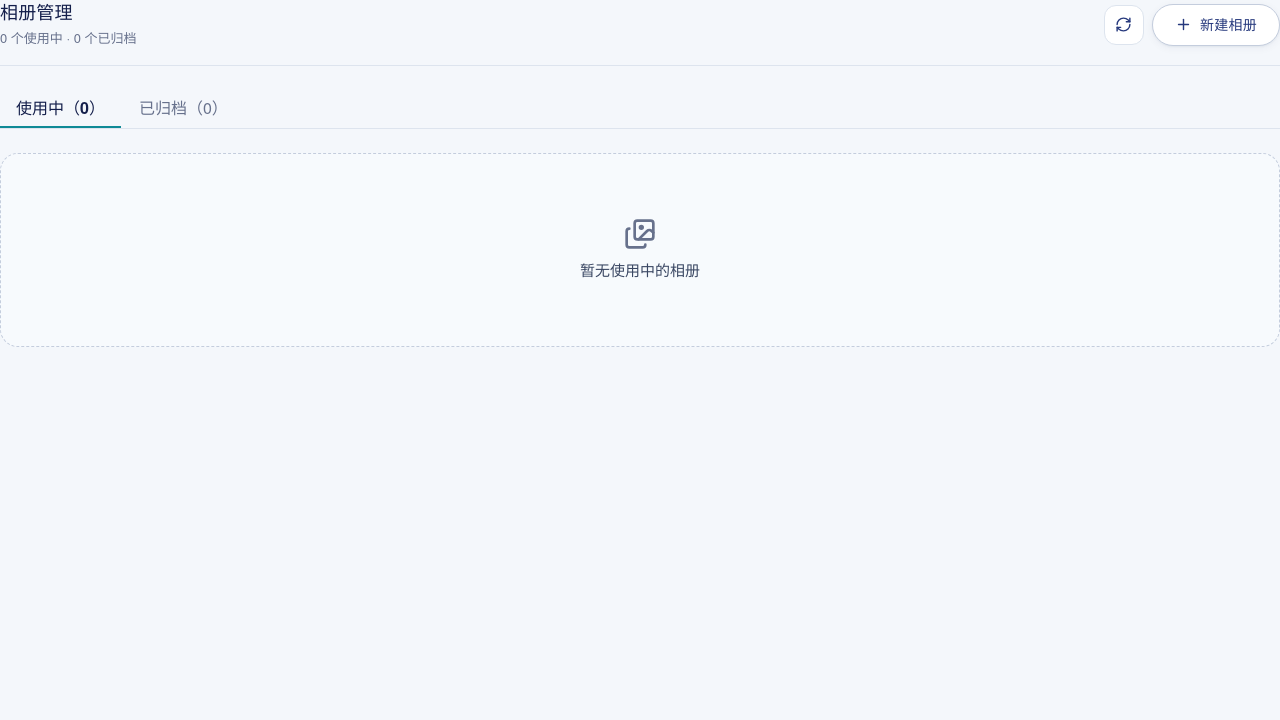
Scenario: AdminAlbums › creates an album and selects it for management
Click the button "新建相册" at (1216, 24), box [1152,4,1279,46]
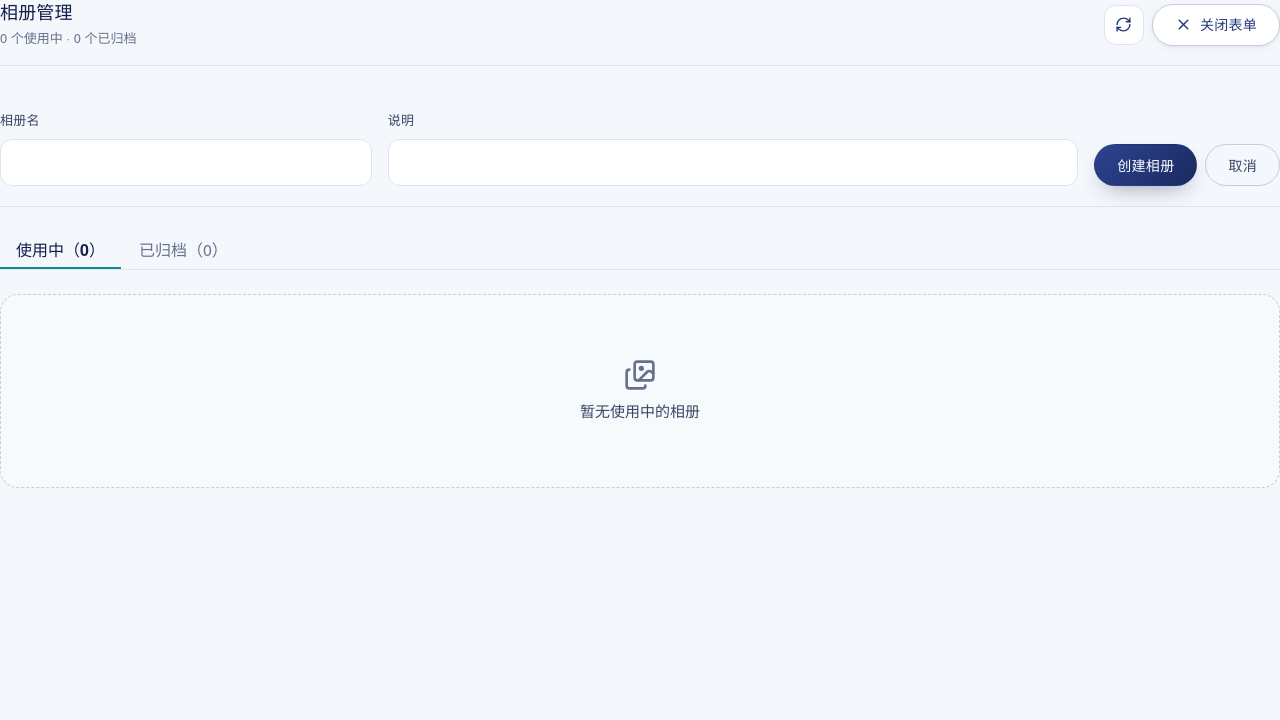
Type "新相册" into the field with id "album-title" at (186, 163), box [0,139,372,186]
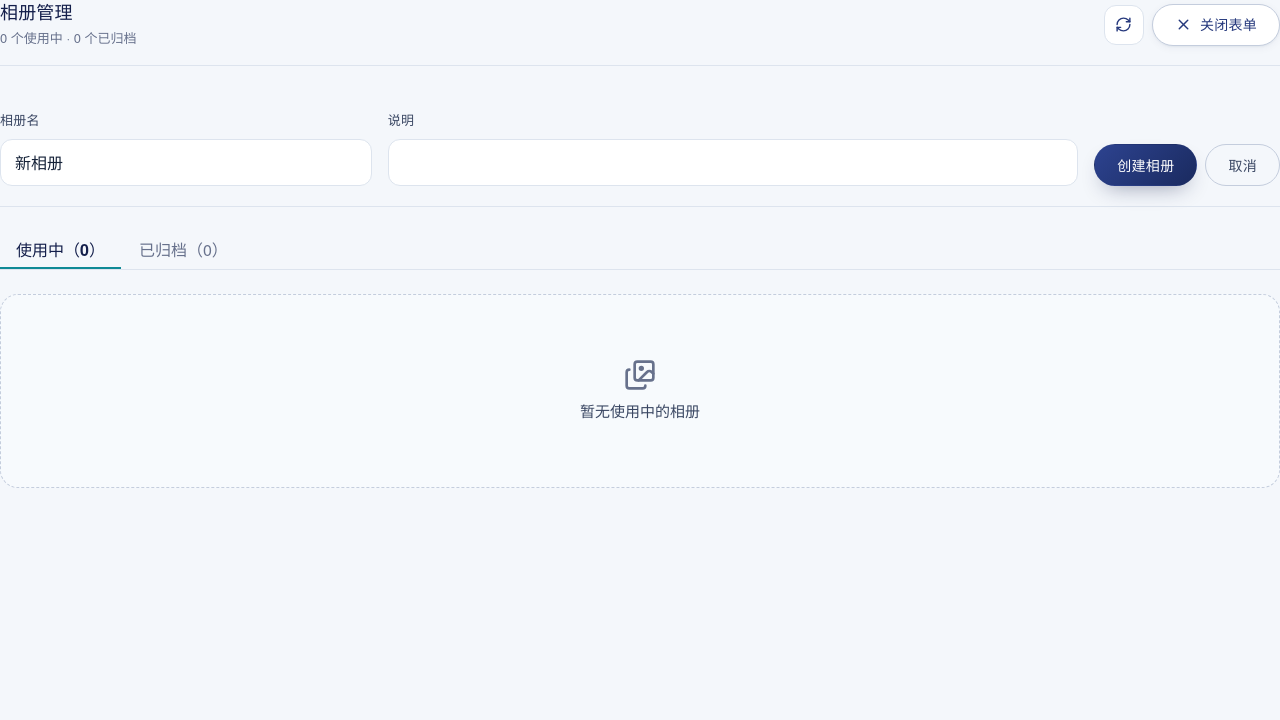
Type "说明" into the field with id "album-description" at (733, 163), box [388,139,1078,186]
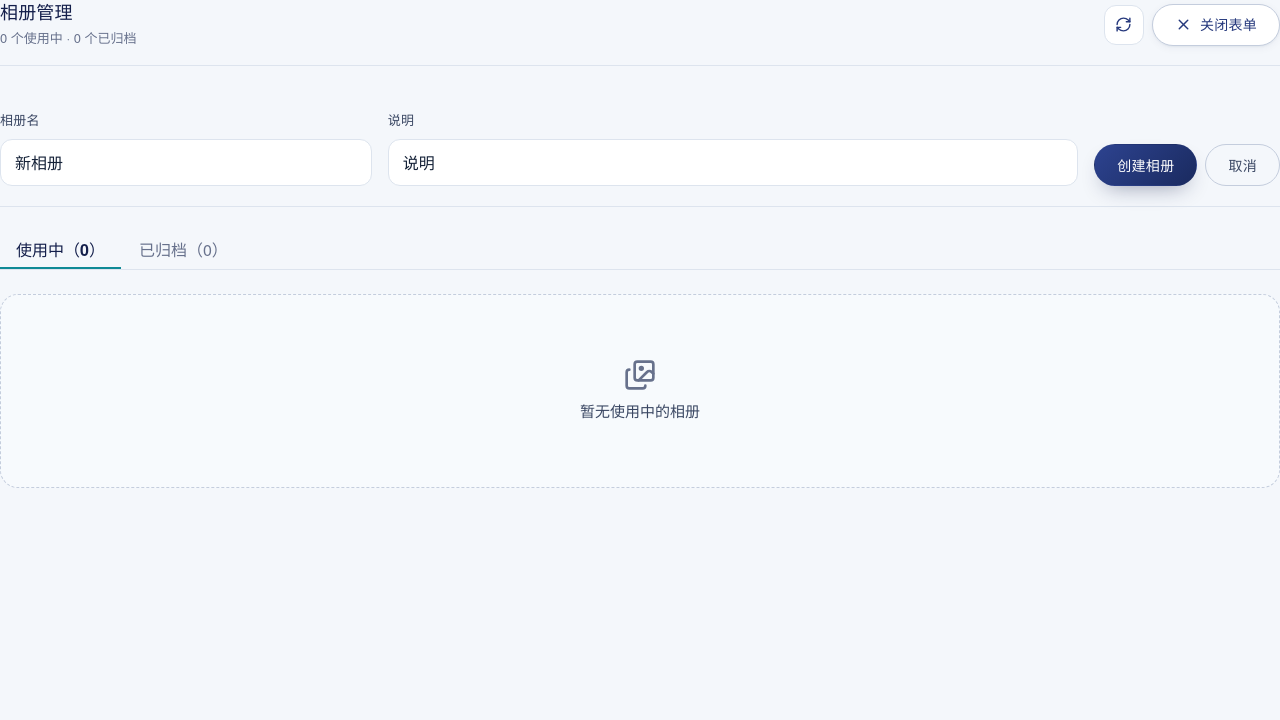
Submit the form with class "create-form", box [0,90,1279,208]
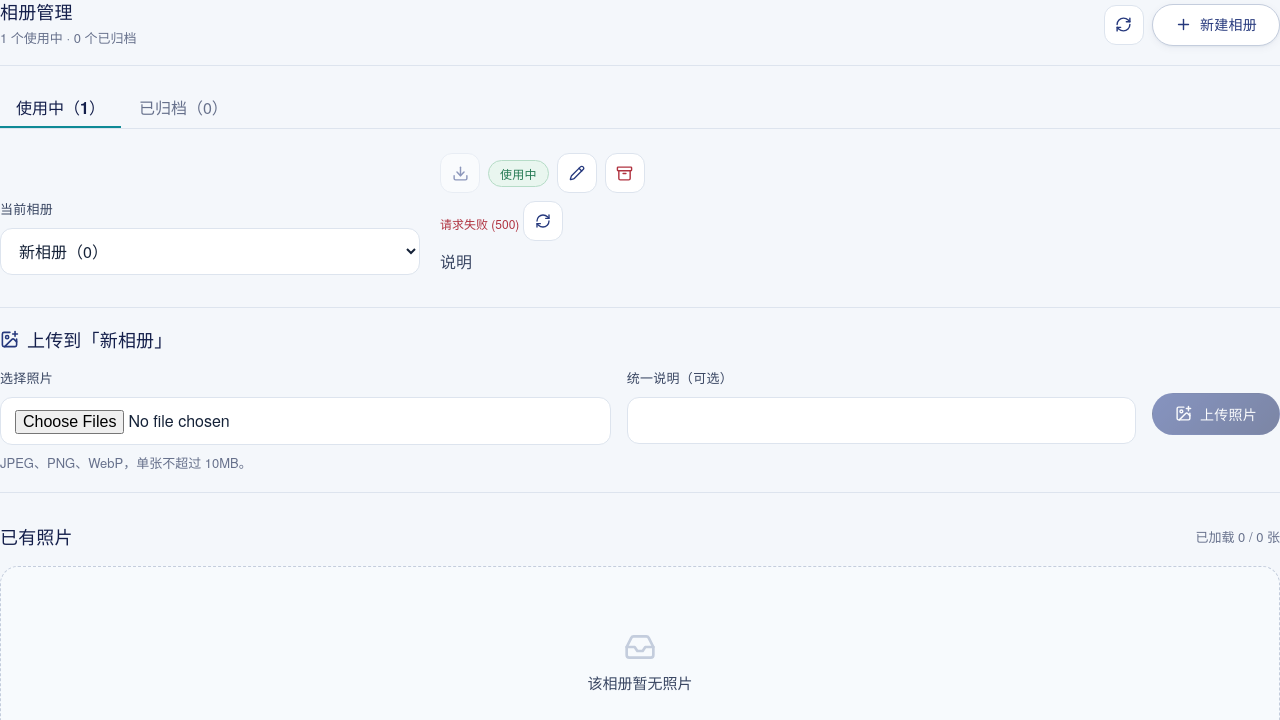
Expected: the text "上传到「新相册」" is shown, [27,328,172,352]
Expected: the dropdown with id "managed-album" shows "新相册（0）", [0,228,420,275]
